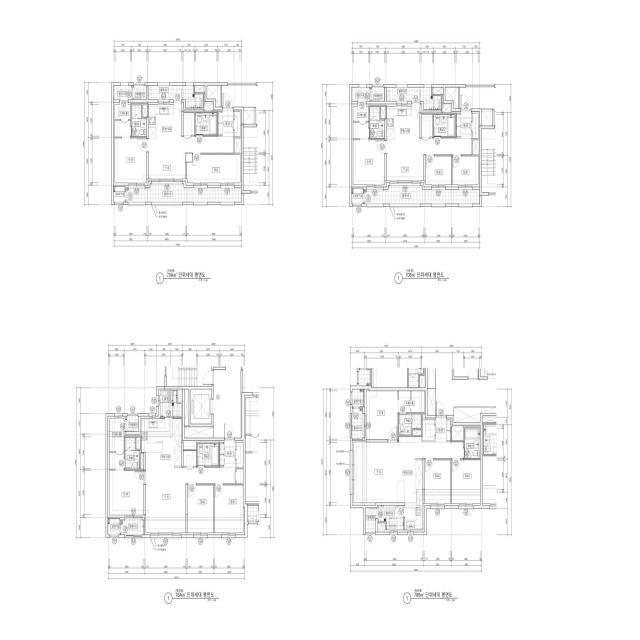space_balconi: (364, 186, 480, 204), (126, 184, 242, 202), (386, 87, 441, 110), (148, 86, 203, 108), (378, 506, 404, 530), (160, 391, 181, 417), (121, 518, 144, 535), (352, 408, 364, 439), (113, 86, 131, 100), (352, 87, 370, 101)
space_bedroom: (109, 470, 144, 515), (366, 391, 398, 439), (187, 155, 240, 183), (353, 140, 385, 184), (115, 138, 146, 183), (215, 485, 243, 533), (452, 460, 480, 503), (188, 485, 213, 533), (425, 460, 451, 503), (453, 156, 478, 185), (426, 156, 451, 185)
space_dressroom: (109, 418, 124, 469), (353, 104, 369, 139), (399, 391, 424, 413), (115, 102, 130, 137)
space_elevator: (191, 389, 212, 424)
space_elevator_hall: (214, 370, 241, 438)
space_front: (218, 109, 240, 137), (456, 111, 472, 138), (220, 439, 235, 467), (435, 417, 451, 442)
space_kitchen: (141, 418, 181, 466), (405, 459, 423, 530), (148, 102, 182, 137), (387, 104, 420, 138)
space_living_room: (354, 437, 463, 503), (146, 466, 235, 533), (387, 138, 472, 181), (148, 137, 233, 179)
space_other: (184, 427, 213, 438), (445, 87, 458, 109), (207, 86, 220, 107), (366, 508, 377, 532), (422, 114, 433, 137), (422, 420, 434, 441), (427, 389, 436, 415), (184, 113, 194, 135), (125, 416, 138, 432), (183, 451, 196, 466), (481, 109, 492, 126), (236, 442, 243, 468), (133, 86, 146, 100), (371, 87, 384, 101), (184, 389, 189, 425), (243, 108, 254, 124), (452, 427, 463, 441), (473, 113, 478, 138), (236, 469, 243, 484), (473, 140, 478, 155), (235, 138, 240, 153), (204, 103, 213, 111), (442, 105, 451, 113), (195, 86, 205, 93), (433, 87, 443, 94), (378, 523, 385, 530), (143, 105, 147, 117), (136, 437, 140, 449), (381, 107, 385, 119), (141, 454, 144, 469), (178, 391, 182, 402), (413, 430, 421, 435)
space_outdoor_room: (352, 389, 364, 407), (108, 519, 120, 535), (113, 187, 125, 202), (352, 188, 363, 204)
space_toilet: (195, 113, 217, 135), (197, 444, 219, 466), (434, 114, 455, 137), (464, 428, 480, 458), (125, 437, 140, 469), (399, 414, 421, 435), (132, 105, 146, 137), (370, 107, 384, 138)
